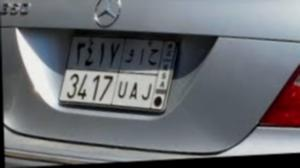License_Plate: (54, 23, 183, 123)
